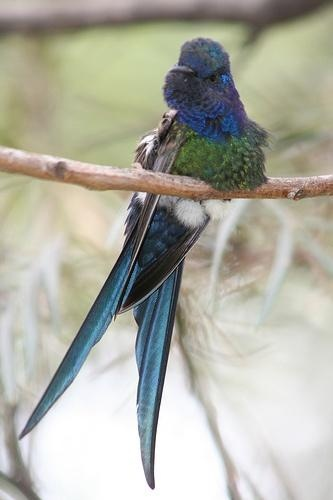bird: (11, 33, 268, 486)
